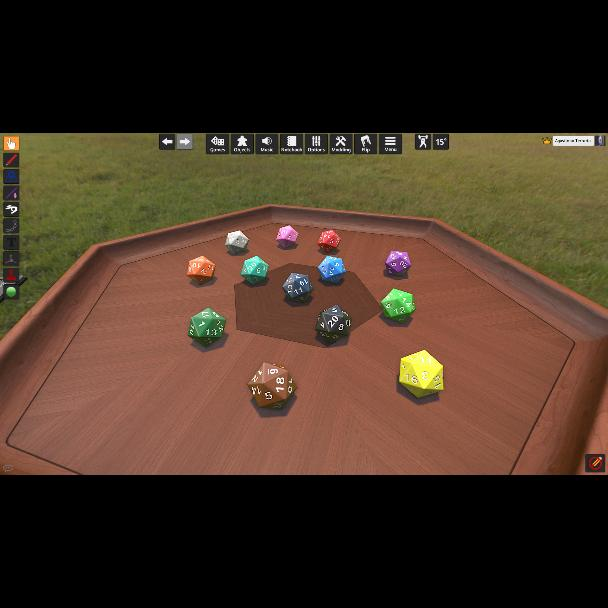d20: (248, 360, 298, 408), (401, 350, 443, 396), (186, 308, 226, 348), (314, 304, 350, 344), (381, 289, 413, 323), (282, 272, 312, 302), (241, 256, 269, 284), (318, 256, 346, 284), (188, 256, 215, 284), (384, 251, 410, 277), (224, 230, 247, 253), (318, 230, 340, 253), (276, 226, 298, 248)
